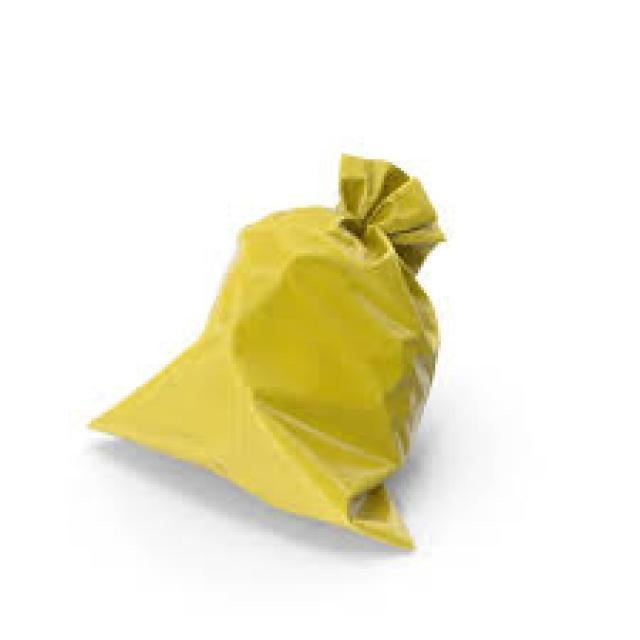waste: (88, 153, 460, 563)
